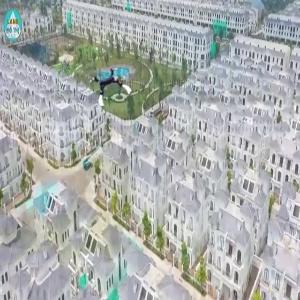drone: (93, 69, 131, 107)
